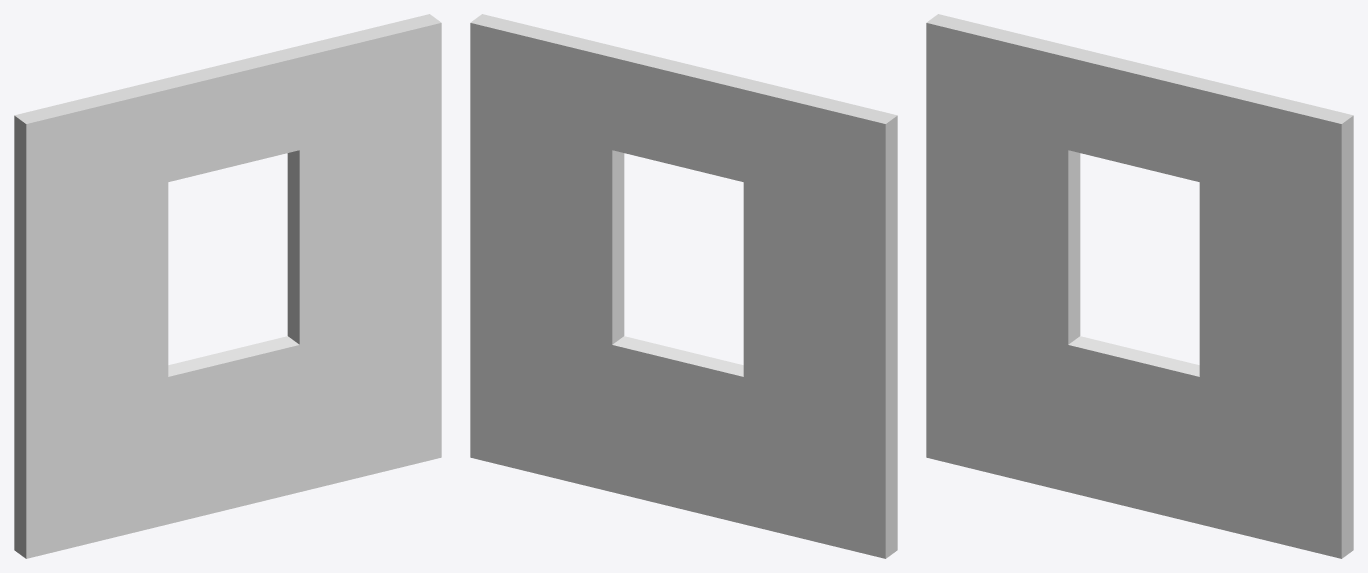
Rendered from wall_072.fbx.
3 renders of one model, left to right at view 1: azimuth 30°, elevation 25°; view 2: azimuth 150°, elevation 25°; view 3: azimuth 330°, elevation 25°, orthographic.
Visible parts, largest first — view 1: wall_072; view 2: wall_072; view 3: wall_072.
Boxes of the visible parts, x1=… form: wall_072: x1=14, y1=14, x2=441, y2=558; wall_072: x1=470, y1=14, x2=897, y2=558; wall_072: x1=926, y1=14, x2=1353, y2=558.
Size of the model in its own units: 400 by 20 by 400.
